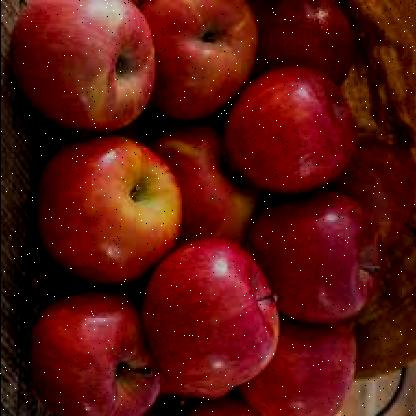apple: (38, 127, 166, 288), (250, 194, 382, 327), (159, 244, 272, 392), (228, 72, 369, 188), (16, 6, 148, 126), (37, 298, 152, 414), (247, 302, 358, 414), (148, 0, 254, 111), (156, 131, 242, 242), (272, 2, 355, 70)
